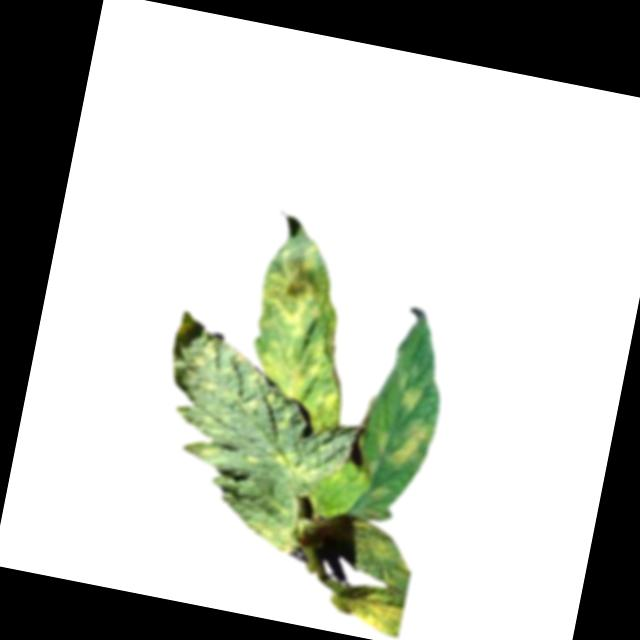Leaf_Mold: (237, 229, 373, 433), (328, 579, 407, 639), (236, 494, 305, 557), (271, 442, 323, 486), (387, 418, 428, 465), (394, 381, 423, 412)
